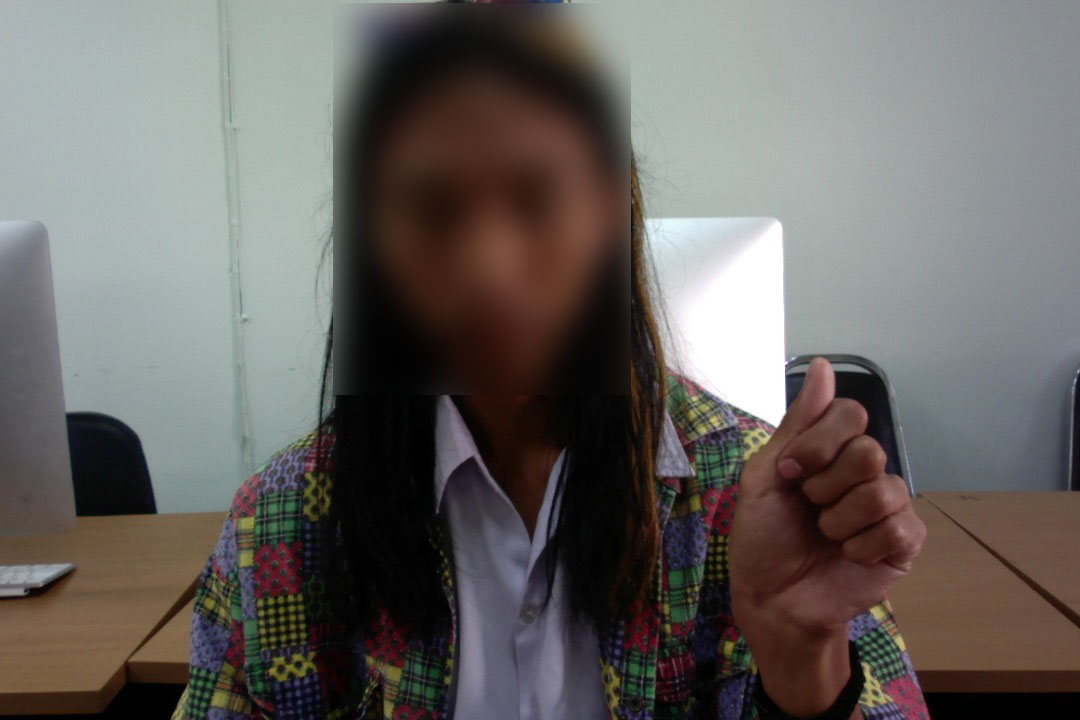or: (701, 349, 941, 641)
